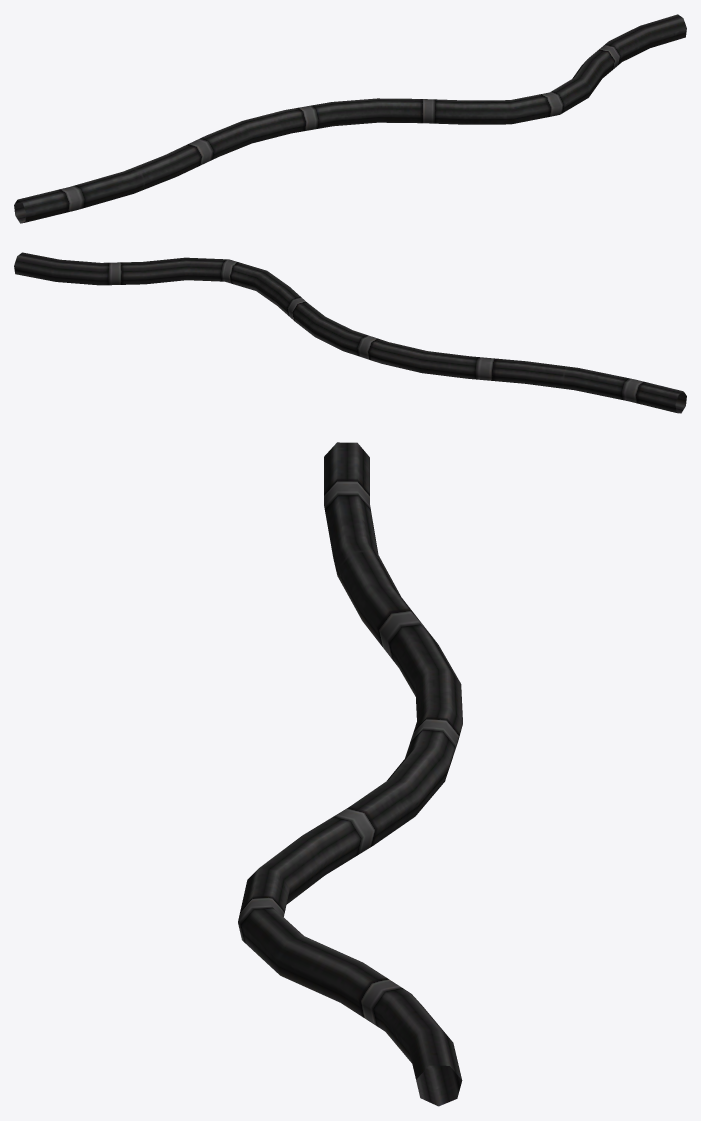
File: lab_thick_wavy_long.dae
3 renders of one model, top to bottom at view 1: azimuth 30°, elevation 25°; view 2: azimuth 150°, elevation 25°; view 3: azimuth 270°, elevation 25°, orthographic. The views are drawn at different scales.
Parts seen in each view (by area): view 1: wavy_long; view 2: wavy_long; view 3: wavy_long.
Part boxes in pixels (<box>): wavy_long: <box>14,14,686,223</box>; wavy_long: <box>14,252,686,413</box>; wavy_long: <box>238,442,462,1106</box>.
Size of the model in its own units: 4 by 0.1228 by 0.6112.
